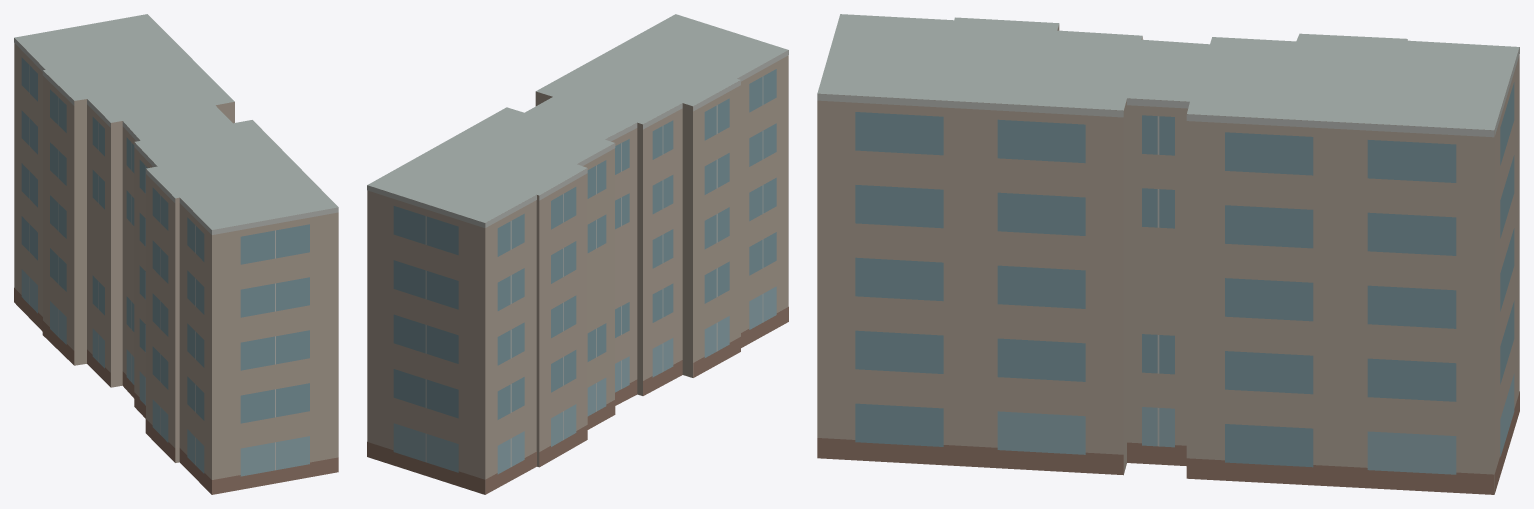
File: survey-upis-32671508.glb
The picture shows the model from 3 angles, left to right: view 1: azimuth 30°, elevation 25°; view 2: azimuth 150°, elevation 25°; view 3: azimuth 270°, elevation 25°; orthographic projection. The views are drawn at different scales.
Visible parts, largest first — view 1: survey-upis-32671508.tmp; view 2: survey-upis-32671508.tmp; view 3: survey-upis-32671508.tmp.
Boxes of the visible parts, left/top/right/bottom form: survey-upis-32671508.tmp: left=14, top=14, right=338, bottom=494; survey-upis-32671508.tmp: left=367, top=14, right=788, bottom=494; survey-upis-32671508.tmp: left=817, top=14, right=1519, bottom=494.
Size of the model in its own units: 8.72 by 12.73 by 22.24.
